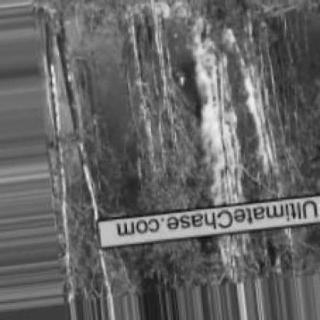Fire: (181, 17, 273, 286), (112, 3, 198, 36)
